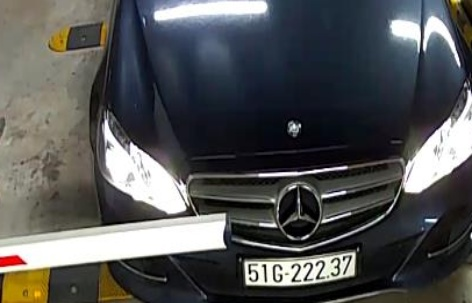plate: (232, 246, 363, 291)
